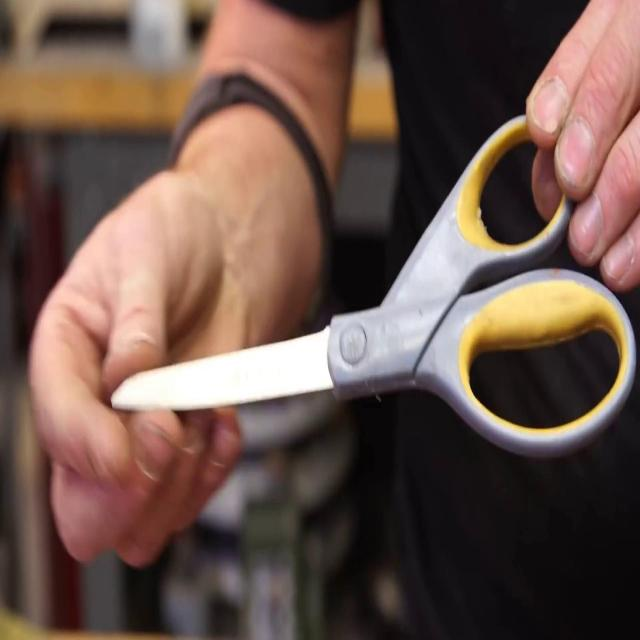scissor: (111, 115, 638, 456)
